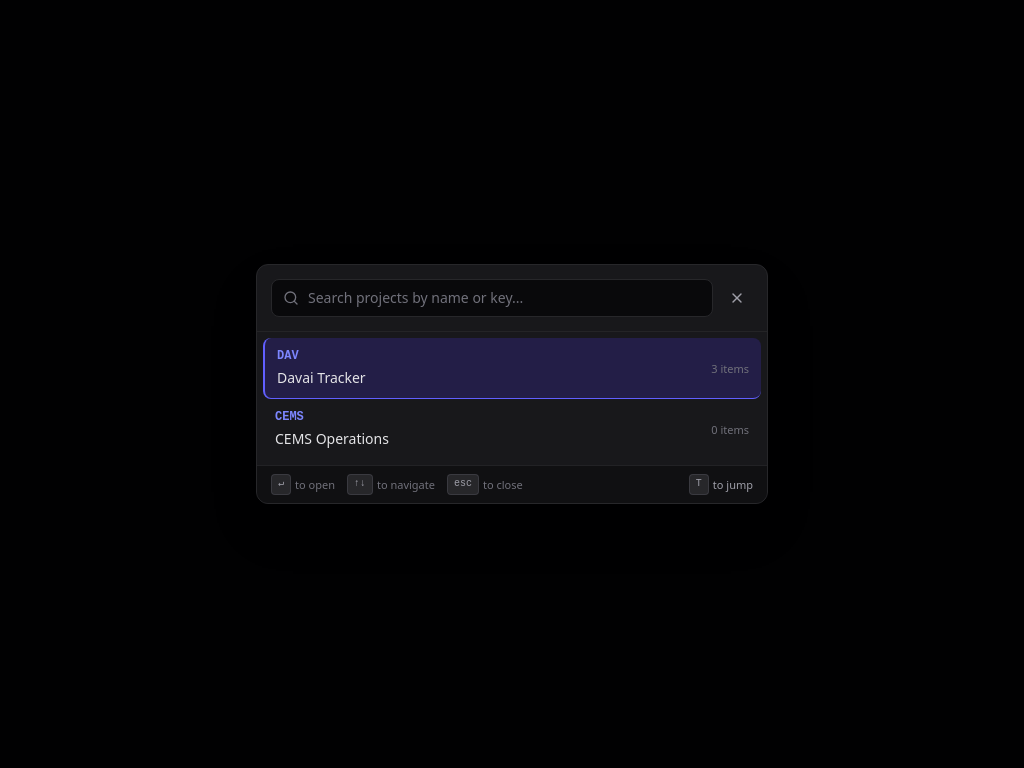
Test: ProjectJumpModal › shows the "No projects match" state for a non-matching query
The width and height of the screenshot is (1024, 768).
Type "zzz" into the field with test id "project-jump-input" at (492, 298), box left=271, top=279, right=713, bottom=317
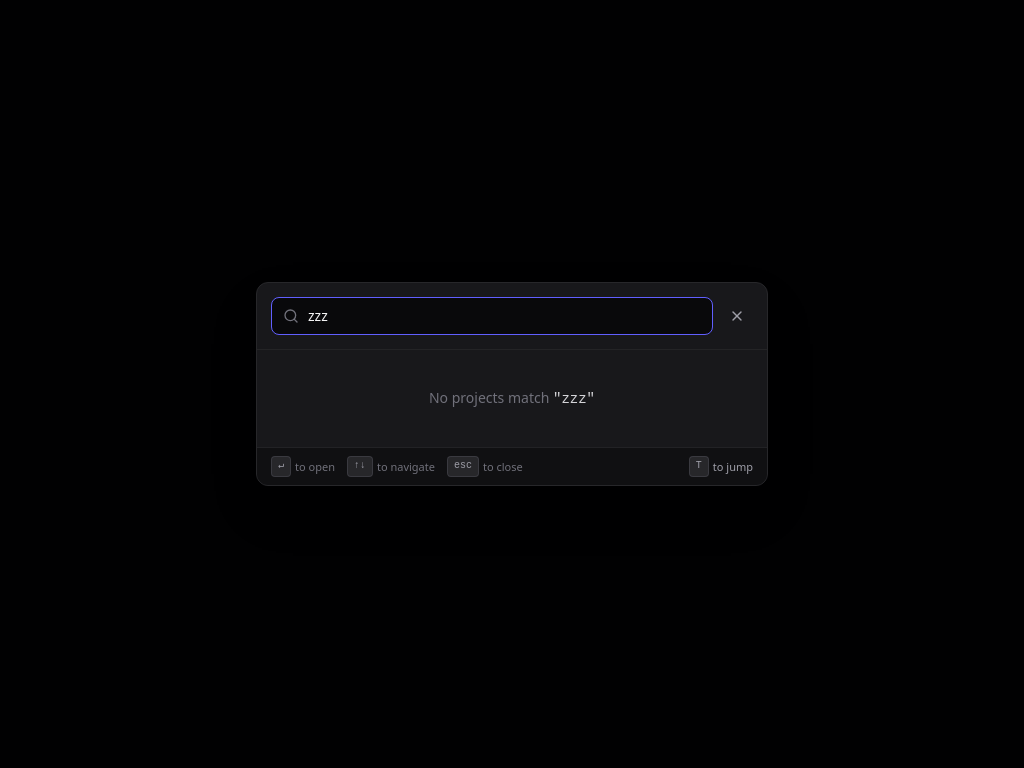
Check: the element with test id "project-jump-empty" shows "No projects match", box left=429, top=388, right=549, bottom=407
Check: the element with test id "project-jump-empty" shows "\"zzz\"", box left=429, top=388, right=595, bottom=407
